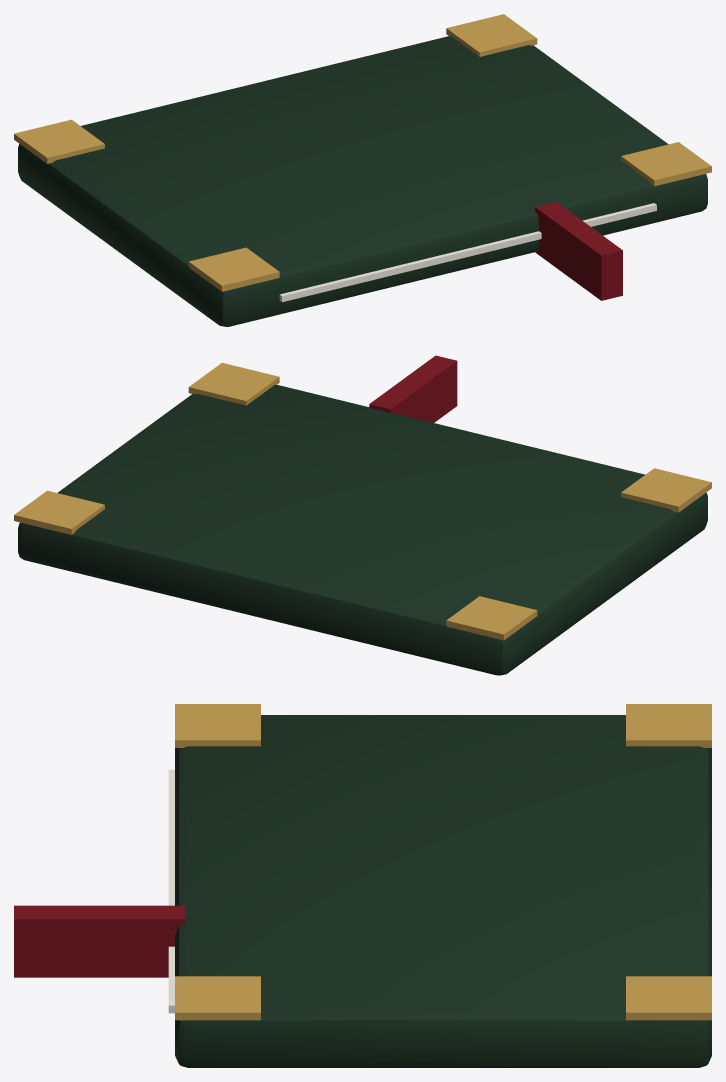
The model's file is meridian_list_folder.glb.
3 renders of one model, top to bottom at view 1: azimuth 30°, elevation 25°; view 2: azimuth 150°, elevation 25°; view 3: azimuth 270°, elevation 25°, orthographic. The views are drawn at different scales.
Parts seen in each view (by area): view 1: meridian_list_folder; view 2: meridian_list_folder; view 3: meridian_list_folder.
Boxes of the visible parts, x1,y1,x2,y2 form: meridian_list_folder: [14, 14, 711, 326]; meridian_list_folder: [14, 355, 711, 675]; meridian_list_folder: [14, 704, 711, 1067].
Size of the model in its own units: 0.34 by 0.031 by 0.325.
